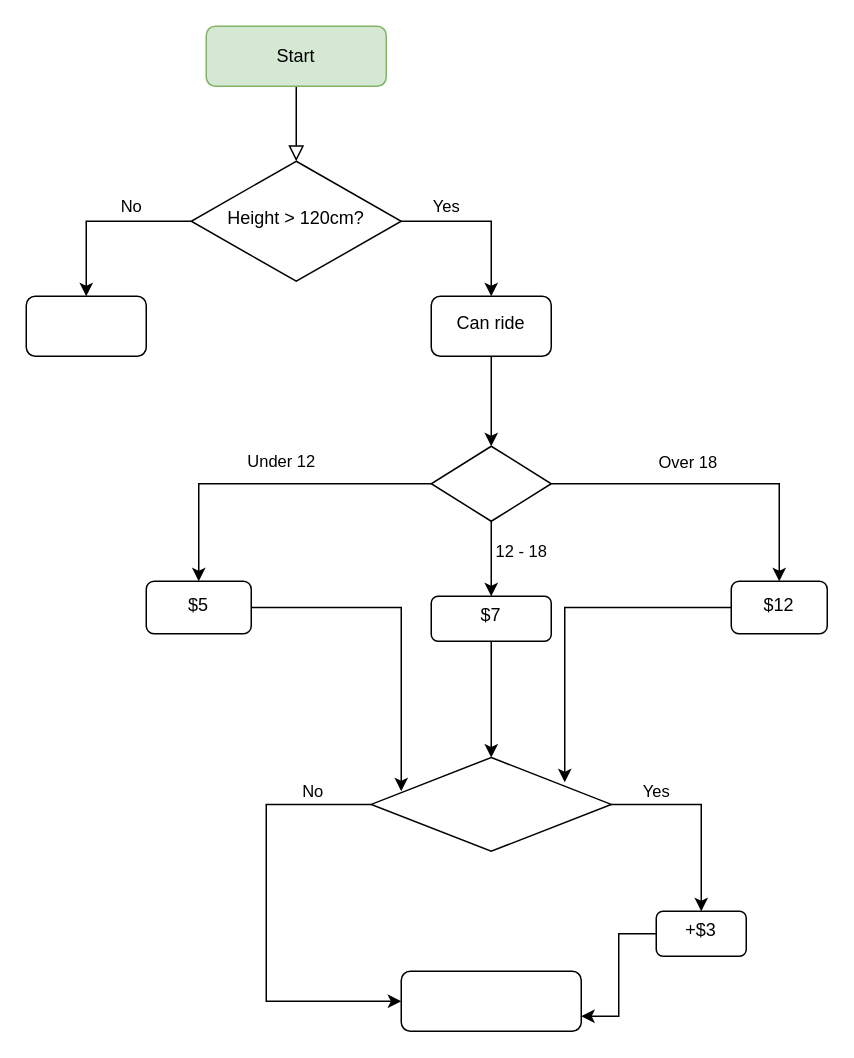
The diagram is 854 pixels wide and 1058 high, and some of its shapes have lost their labels. Each missing label, with the centre of its shape:
age: [490,483]
Can't ride: [85,325]
The total bill is $x: [490,1000]
want photos?: [490,803]
